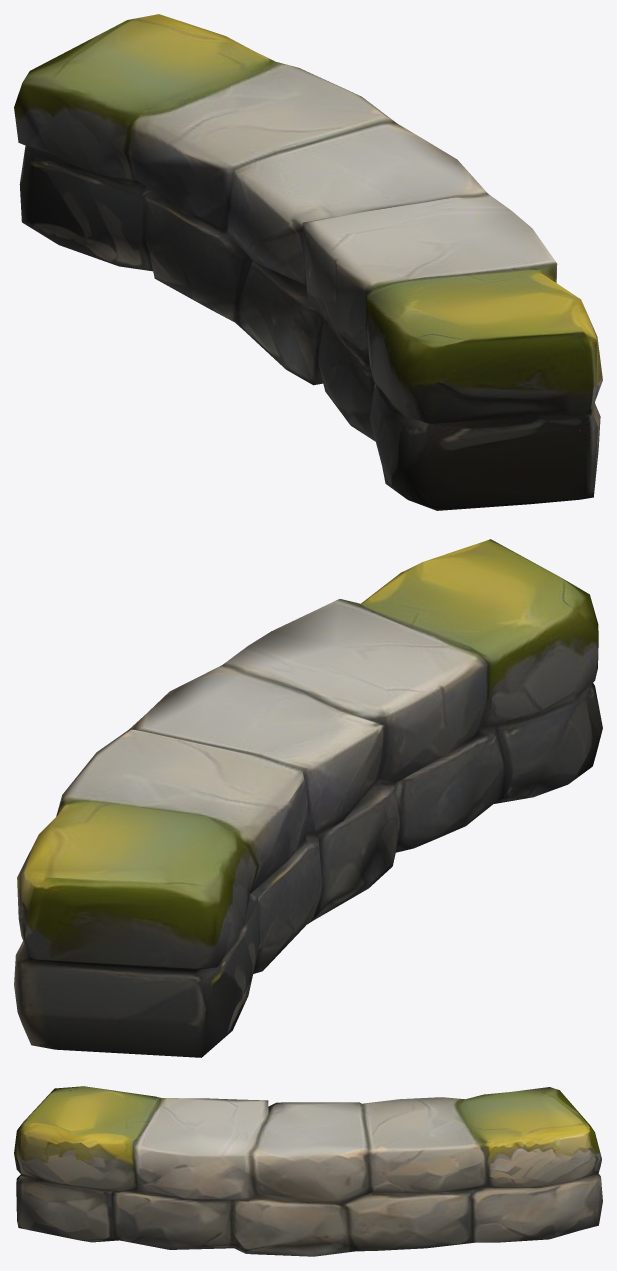
File: arena_wall_arc.glb
3 views of the same model, one above another, from view 1: azimuth 30°, elevation 25°; view 2: azimuth 150°, elevation 25°; view 3: azimuth 270°, elevation 25° (orthographic). The views are drawn at different scales.
Parts seen in each view (by area): view 1: tripo_node_406ca784-e01f-4d11-967c-2073fa05f671; view 2: tripo_node_406ca784-e01f-4d11-967c-2073fa05f671; view 3: tripo_node_406ca784-e01f-4d11-967c-2073fa05f671.
Part boxes in pixels (x1,y1,x2,y2): tripo_node_406ca784-e01f-4d11-967c-2073fa05f671: (14,14,602,510); tripo_node_406ca784-e01f-4d11-967c-2073fa05f671: (14,539,602,1057); tripo_node_406ca784-e01f-4d11-967c-2073fa05f671: (14,1086,602,1256).
Size of the model in its own units: 1.21 by 0.8 by 3.96.
Materials: 1 (1 with a texture image).
